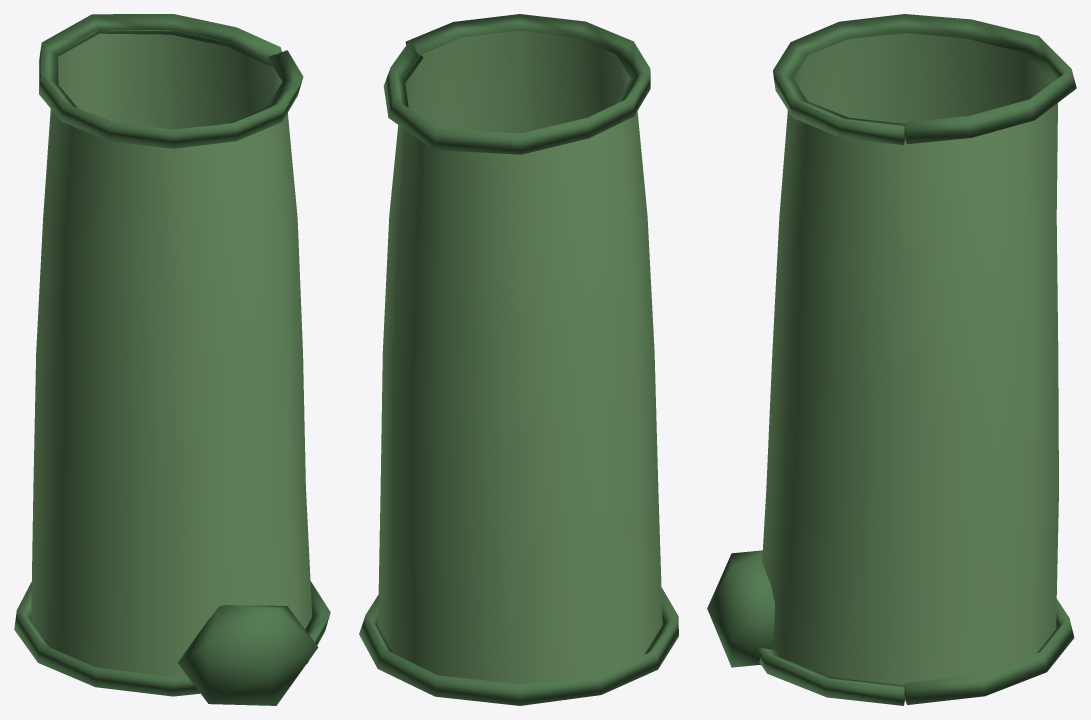
Rendered from tungsten_armor_greave.L.glb.
3 views of the same model, side by side, from view 1: azimuth 30°, elevation 25°; view 2: azimuth 150°, elevation 25°; view 3: azimuth 270°, elevation 25° (orthographic). The views are drawn at different scales.
Visible parts, largest first — view 1: tungsten_armor_greave.L; view 2: tungsten_armor_greave.L; view 3: tungsten_armor_greave.L.
Boxes of the visible parts, x1,y1,x2,y2 form: tungsten_armor_greave.L: [14, 14, 330, 705]; tungsten_armor_greave.L: [359, 14, 678, 705]; tungsten_armor_greave.L: [707, 14, 1076, 705].
Size of the model in its own units: 0.1996 by 0.4044 by 0.2298.
